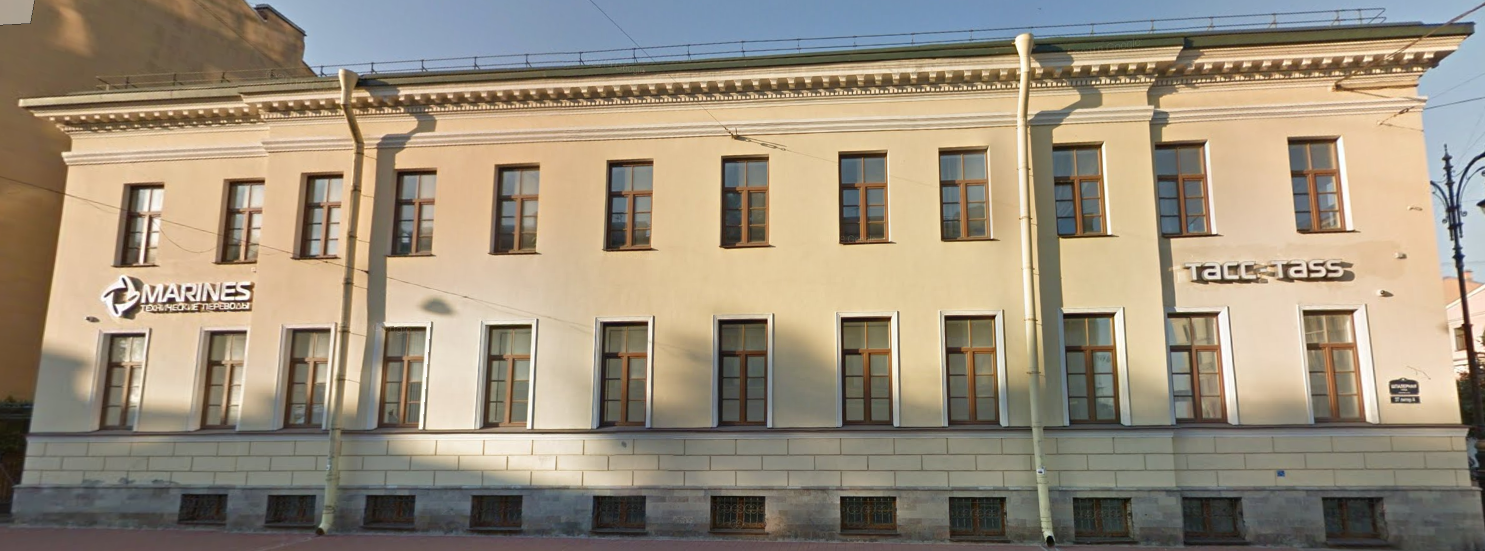signboard: (93, 271, 255, 319), (1178, 251, 1348, 286)
window: (1306, 301, 1371, 428), (1164, 308, 1227, 424), (1061, 313, 1121, 424), (714, 318, 770, 435), (945, 317, 999, 429), (193, 330, 247, 434), (1287, 136, 1345, 232), (1155, 142, 1212, 238), (481, 323, 533, 427), (602, 322, 652, 429), (850, 312, 893, 431), (95, 332, 145, 433), (278, 330, 329, 427), (838, 148, 889, 242), (489, 166, 541, 256), (379, 331, 426, 426), (718, 157, 766, 247), (1058, 150, 1107, 238), (297, 171, 343, 261), (389, 171, 435, 260), (941, 153, 988, 240), (114, 184, 161, 267), (221, 180, 267, 264), (605, 163, 650, 247)
